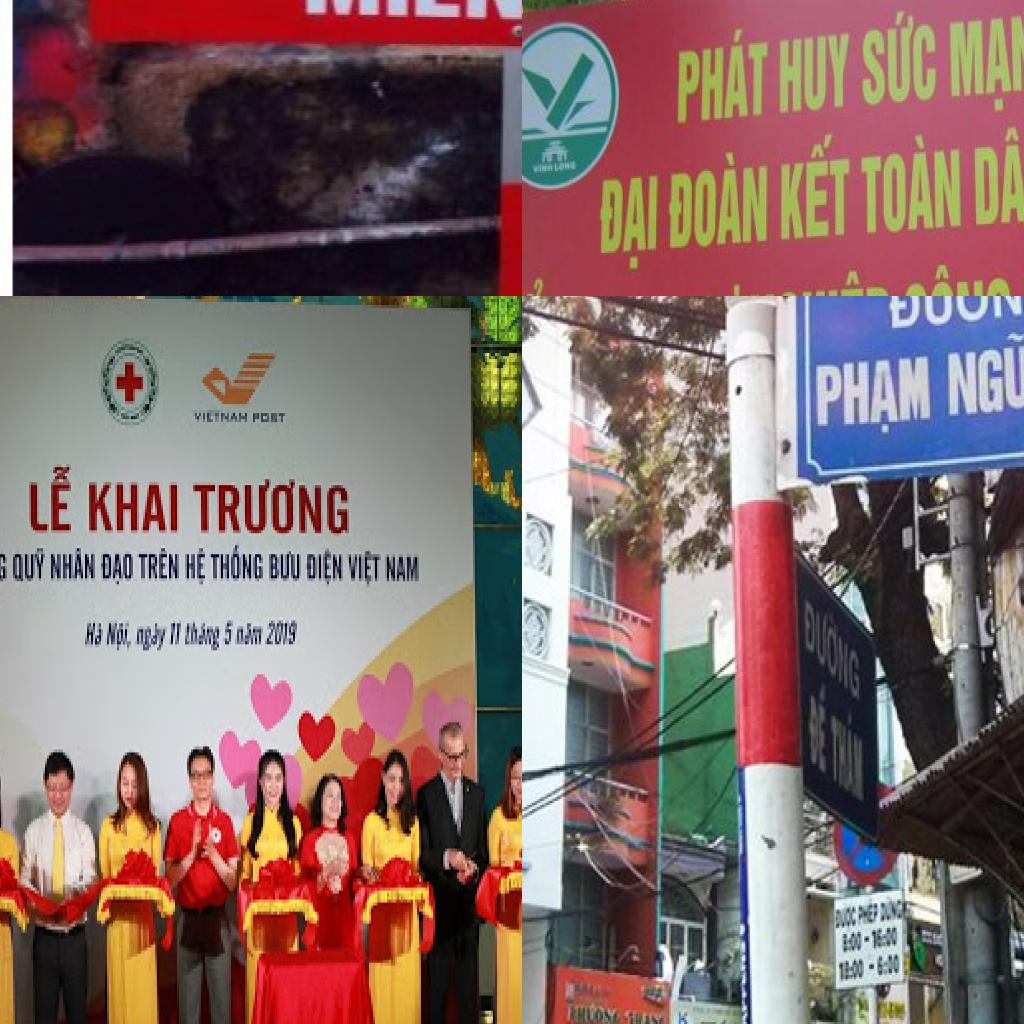text: (668, 149, 770, 255), (861, 130, 963, 236), (814, 354, 934, 440), (191, 476, 351, 539), (672, 24, 768, 128), (942, 9, 1024, 118), (775, 132, 852, 244), (856, 7, 939, 110), (803, 580, 862, 706), (945, 328, 1024, 420), (775, 24, 853, 115), (597, 171, 663, 274), (967, 125, 1024, 231), (522, 55, 596, 133), (87, 479, 179, 539), (887, 296, 1024, 332), (303, 0, 522, 21), (748, 265, 895, 296), (828, 694, 866, 807), (904, 260, 1014, 296), (29, 464, 79, 536), (209, 542, 265, 584), (49, 546, 97, 588), (806, 688, 828, 778), (305, 546, 345, 590), (139, 546, 183, 584), (9, 542, 47, 584), (345, 548, 383, 590), (383, 552, 423, 590), (183, 618, 223, 656), (101, 548, 137, 590), (267, 546, 303, 588), (133, 618, 169, 656), (193, 404, 251, 425), (105, 620, 137, 656), (183, 546, 209, 590), (235, 620, 265, 650), (871, 924, 900, 952), (83, 618, 107, 650), (858, 897, 880, 930), (834, 903, 859, 932), (876, 952, 902, 979), (251, 410, 287, 428), (167, 618, 185, 650), (221, 618, 237, 650), (852, 959, 866, 983), (531, 163, 555, 176), (851, 930, 864, 954), (677, 1011, 690, 1024)
